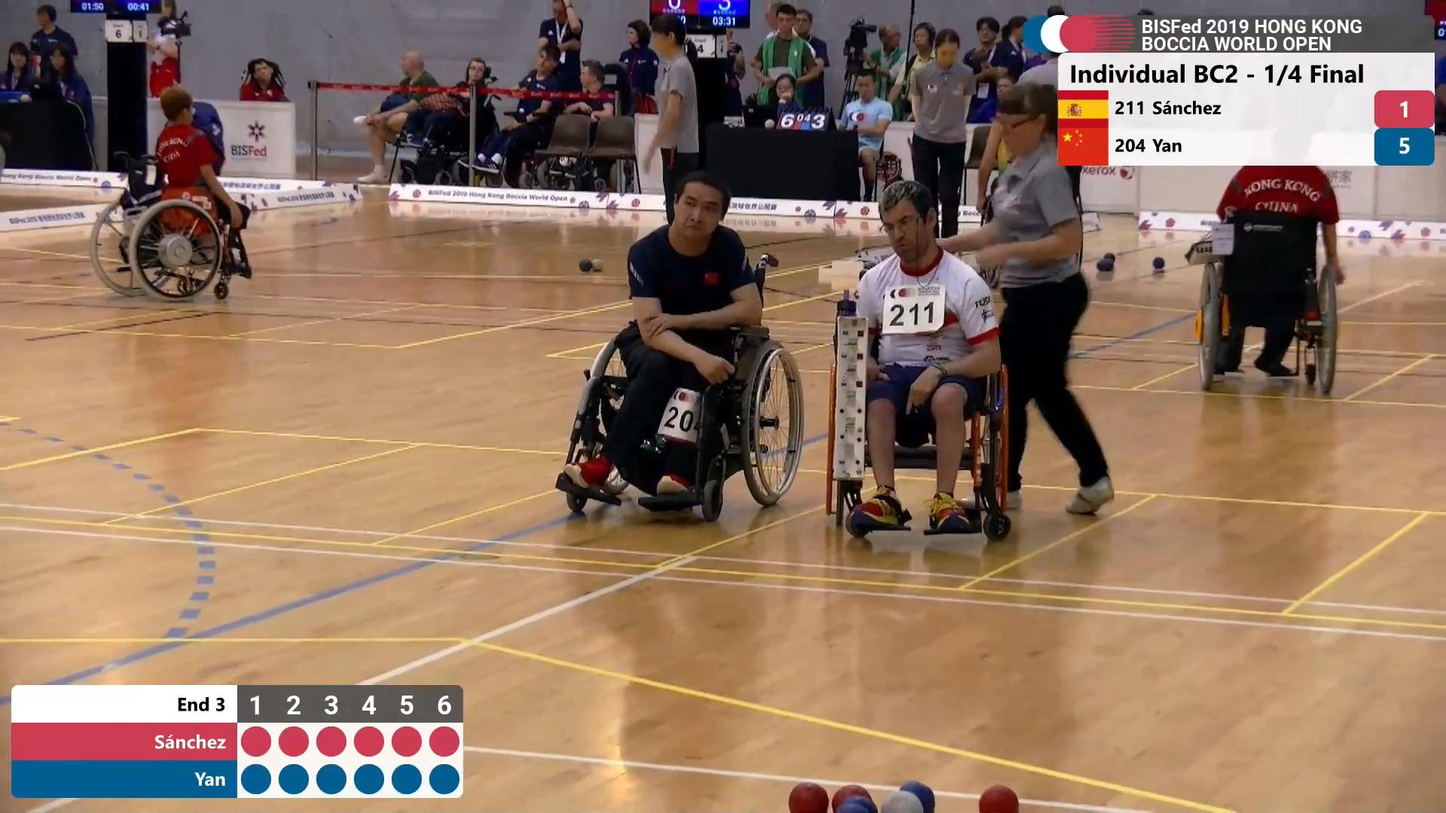blue_ball: (905, 780, 936, 808)
red_ball: (789, 782, 827, 813), (980, 784, 1018, 813)
white_ball: (880, 791, 924, 813)
